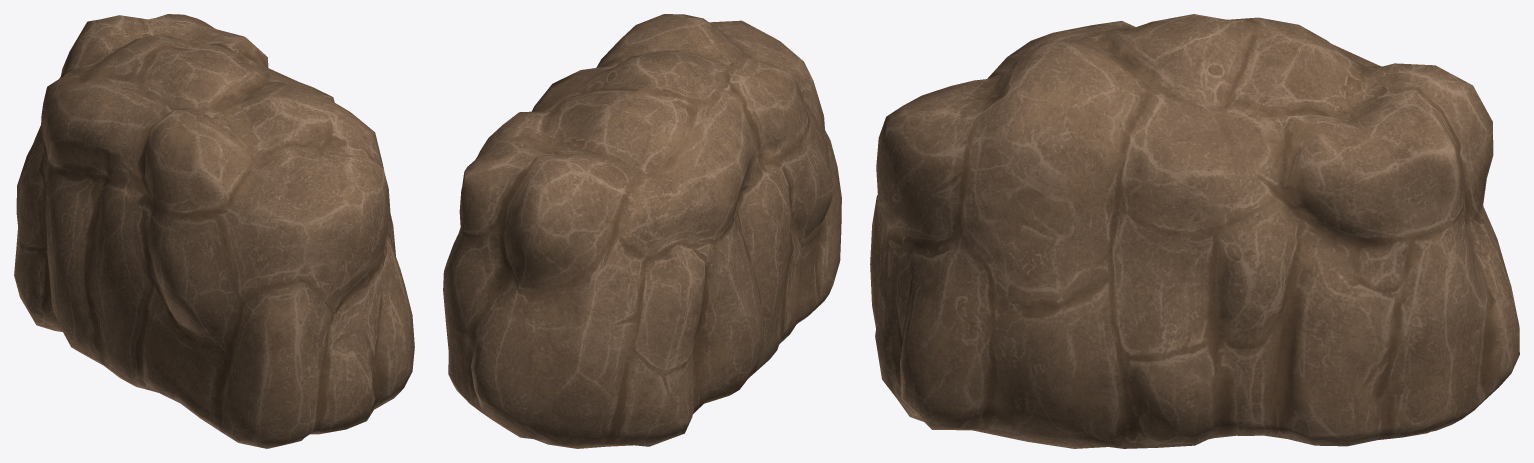
File: sb_obj_nature007_Rock01d.fbx
3 renders of one model, left to right at view 1: azimuth 30°, elevation 25°; view 2: azimuth 150°, elevation 25°; view 3: azimuth 270°, elevation 25°, orthographic. The views are drawn at different scales.
Visible parts, largest first — view 1: sb_obj_nature007_Rock01d; view 2: sb_obj_nature007_Rock01d; view 3: sb_obj_nature007_Rock01d.
Boxes of the visible parts, x1,y1,x2,y2 form: sb_obj_nature007_Rock01d: (14, 14, 414, 448); sb_obj_nature007_Rock01d: (443, 14, 841, 448); sb_obj_nature007_Rock01d: (870, 14, 1519, 448).
Size of the model in its own units: 3.23 by 3.52 by 5.46.
